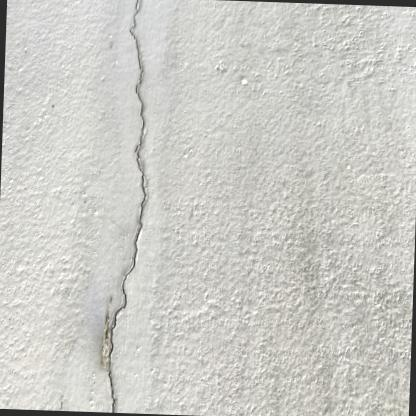crack: (107, 0, 148, 413)
